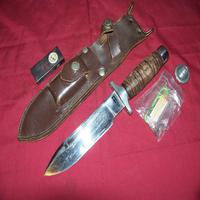knife: (39, 50, 167, 181)
